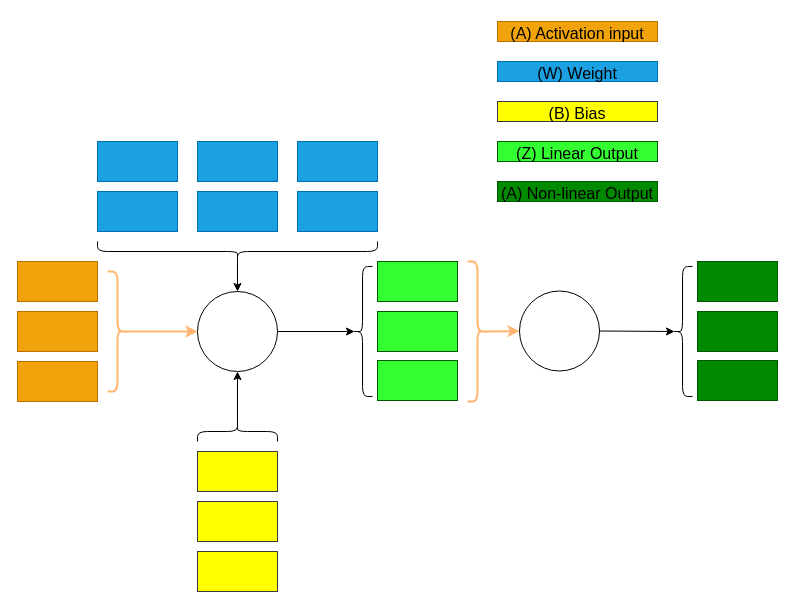
This 795x609 diagram has some shape labels left out. Each missing label, with the centre of its shape:
Linear function: point 237,331
Non-linear function: point 559,330
